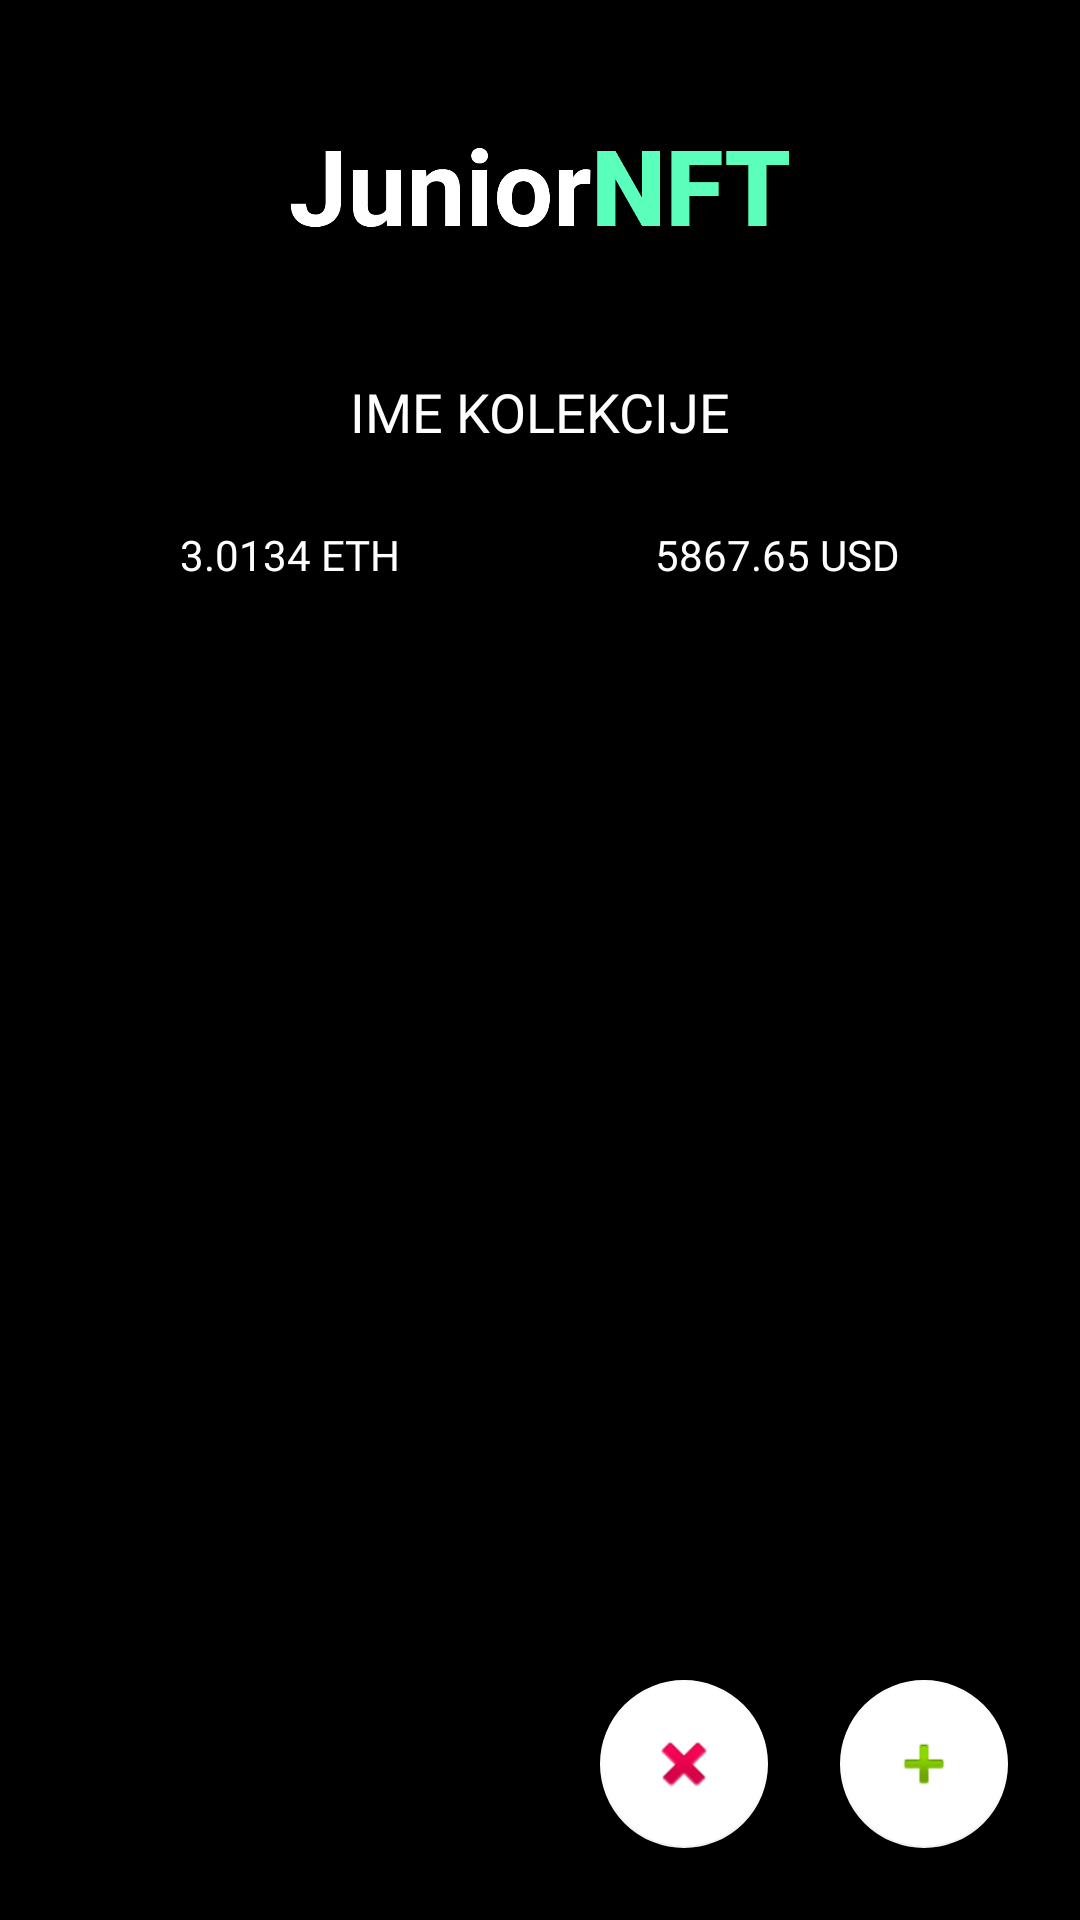

Icons on this 1080 x 1920 Android screen, each with its box as (x1, y1, x2, y2):
add: (840, 1680, 1008, 1848)
delete: (600, 1680, 768, 1848)
